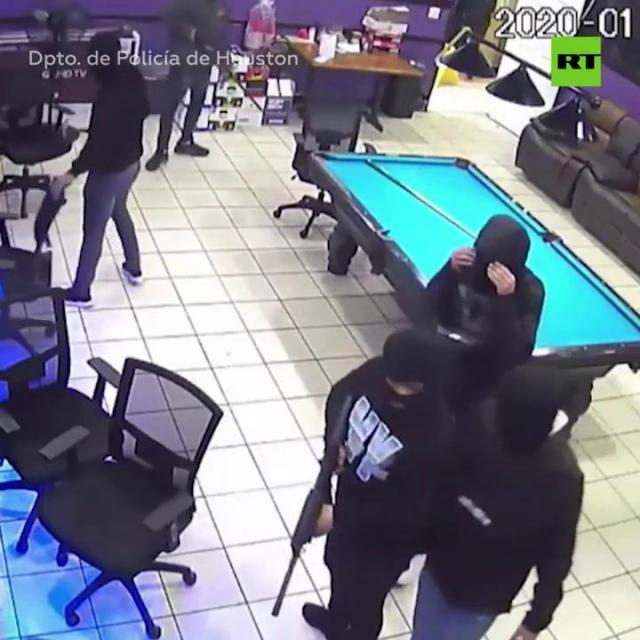weapon: (258, 384, 370, 631)
